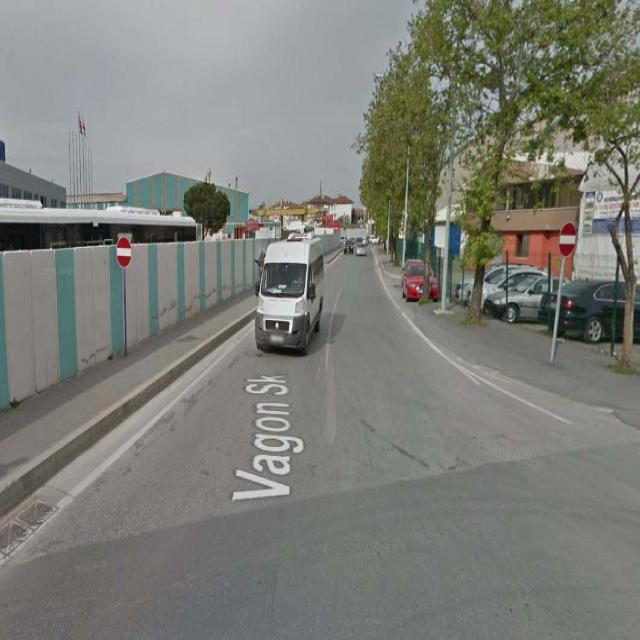girisyok: (559, 223, 576, 255), (116, 236, 132, 267)
